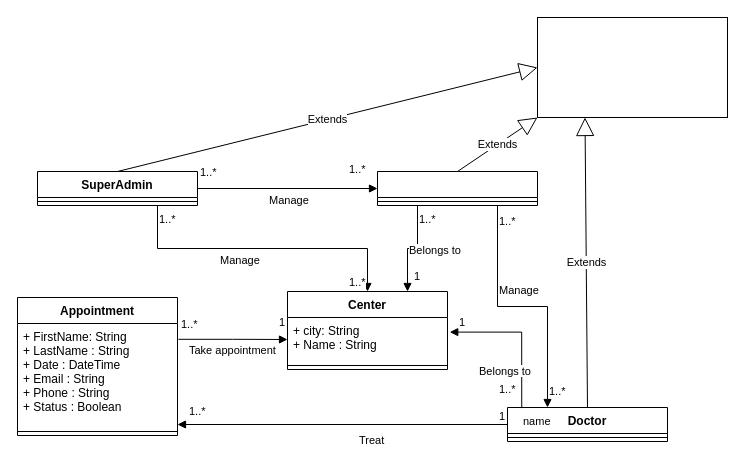
This 745x465 diagram has some shape labels left out. Here are the shapes that lost their labels. From the top down, the centre of each, then its label:
(632,67): <<abstract>> AdminLevel + Name: String + Role: Role
(457,188): Admin
